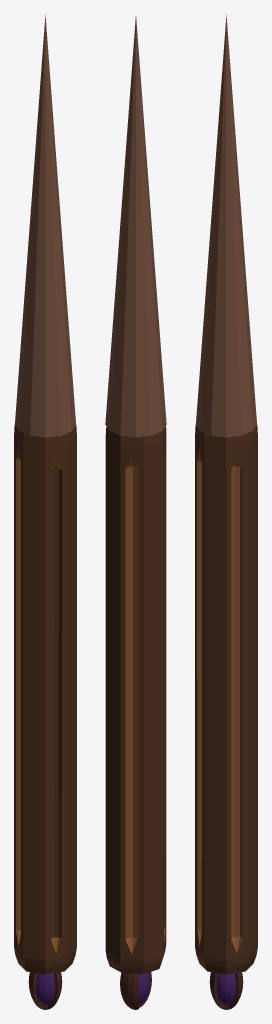
Rendered from Wand 527.glb.
3 renders of one model, left to right at view 1: azimuth 90°, elevation 25°; view 2: azimuth 150°, elevation 25°; view 3: azimuth 270°, elevation 25°, orthographic.
Parts seen in each view (by area): view 1: GeneratedWand; view 2: GeneratedWand; view 3: GeneratedWand.
Part boxes in pixels (x1,y1,x2,y2): GeneratedWand: (14, 14, 76, 1009); GeneratedWand: (105, 16, 166, 1009); GeneratedWand: (195, 14, 257, 1009).
Bounding box in the file's own units: 0.0289 × 0.5052 × 0.0289.
